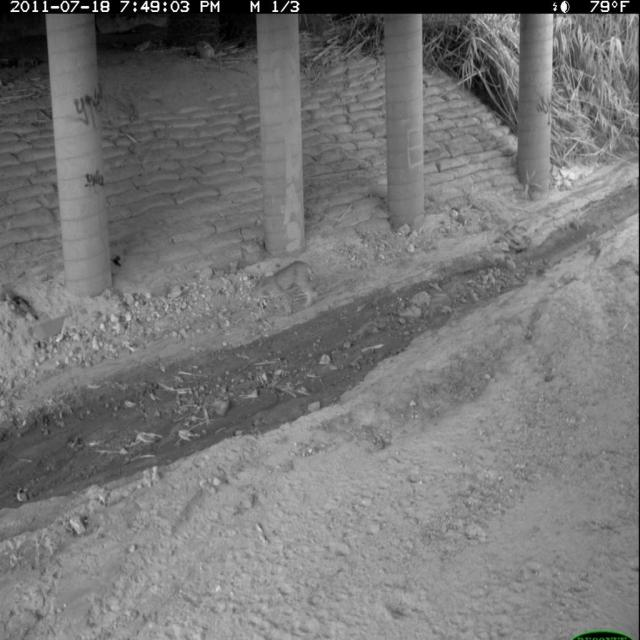bobcat: (249, 258, 320, 327)
